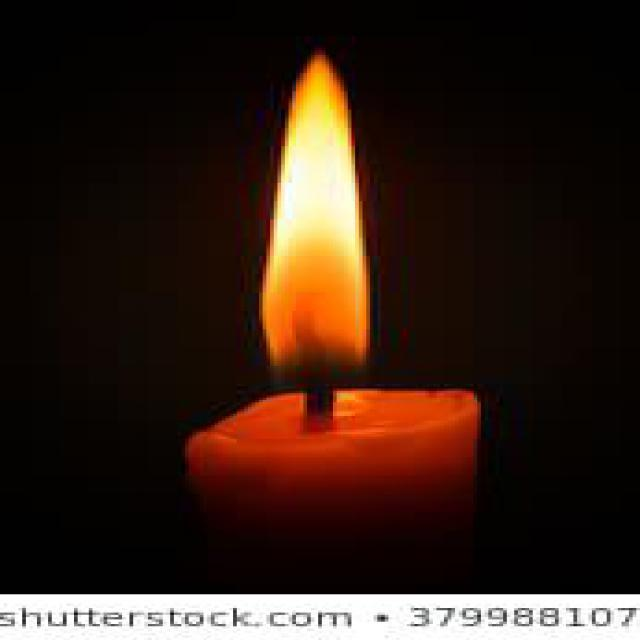Fire: (259, 50, 370, 389)
